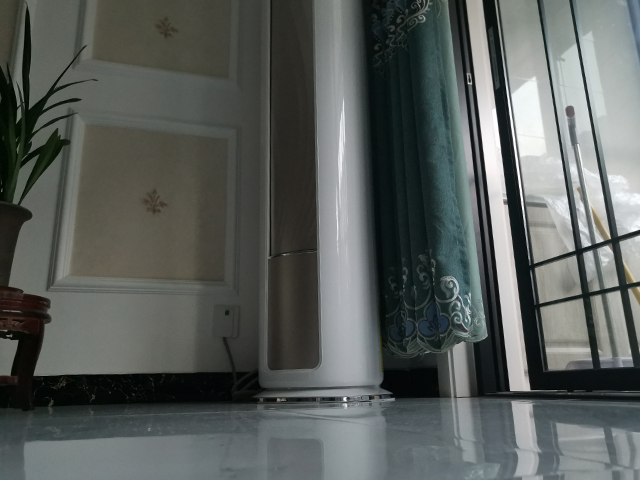curtain: (362, 1, 490, 361)
wire: (219, 336, 262, 401)
